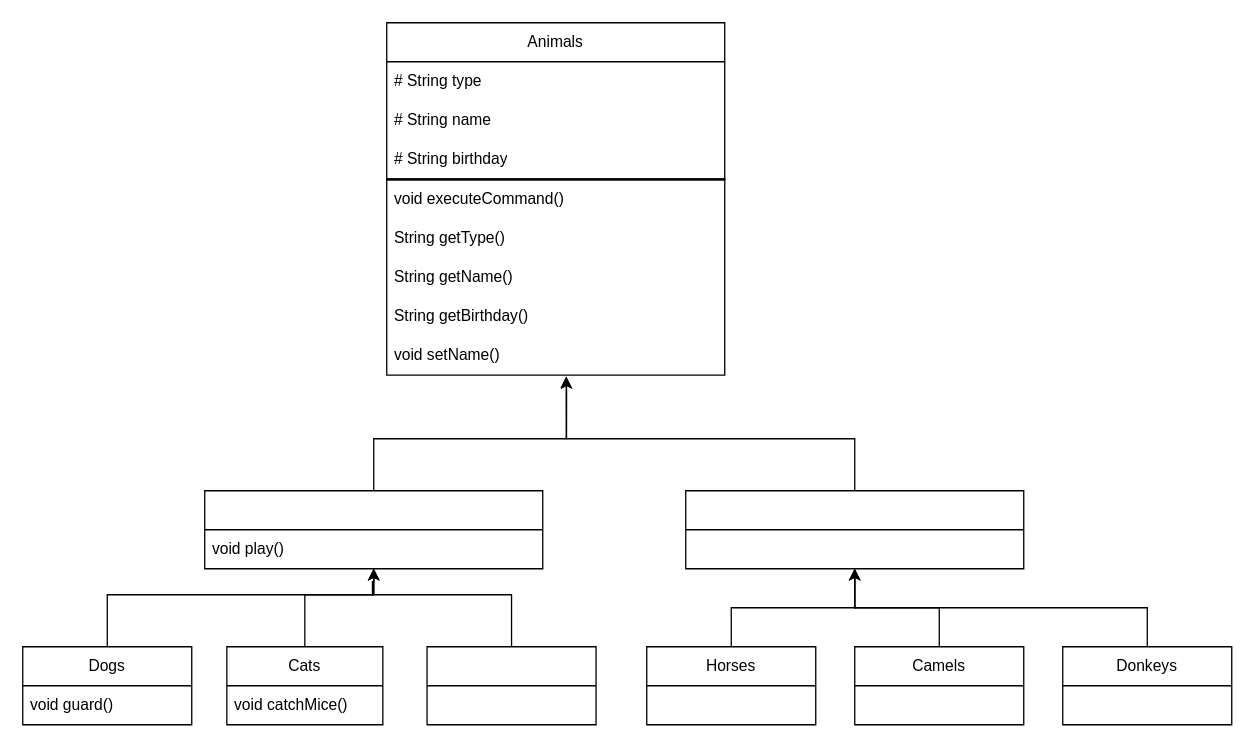
Image size: 1255x748. Some labels were removed from this diagram. Each missing label, with the box of its shape:
Hamsters: (426, 645, 596, 725)
Pack Animals: (684, 489, 1024, 569)
Pets: (203, 489, 543, 569)
